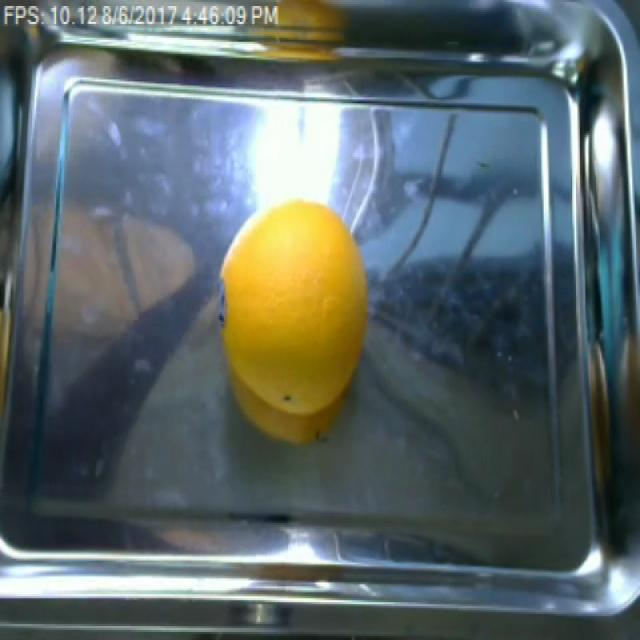Fruit: (214, 193, 374, 447), (270, 0, 354, 34)
